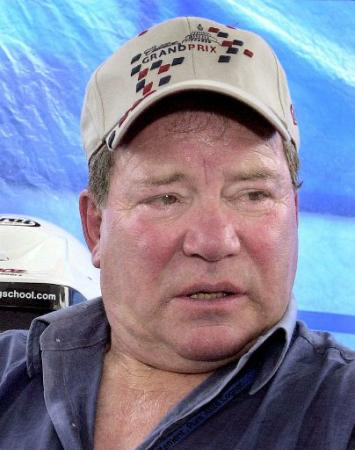Face: (107, 143, 299, 368)
